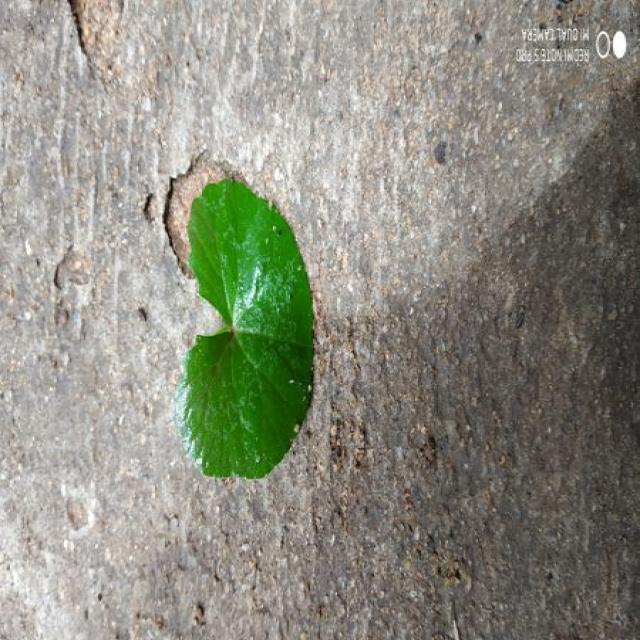bhrami: (177, 179, 313, 478)
